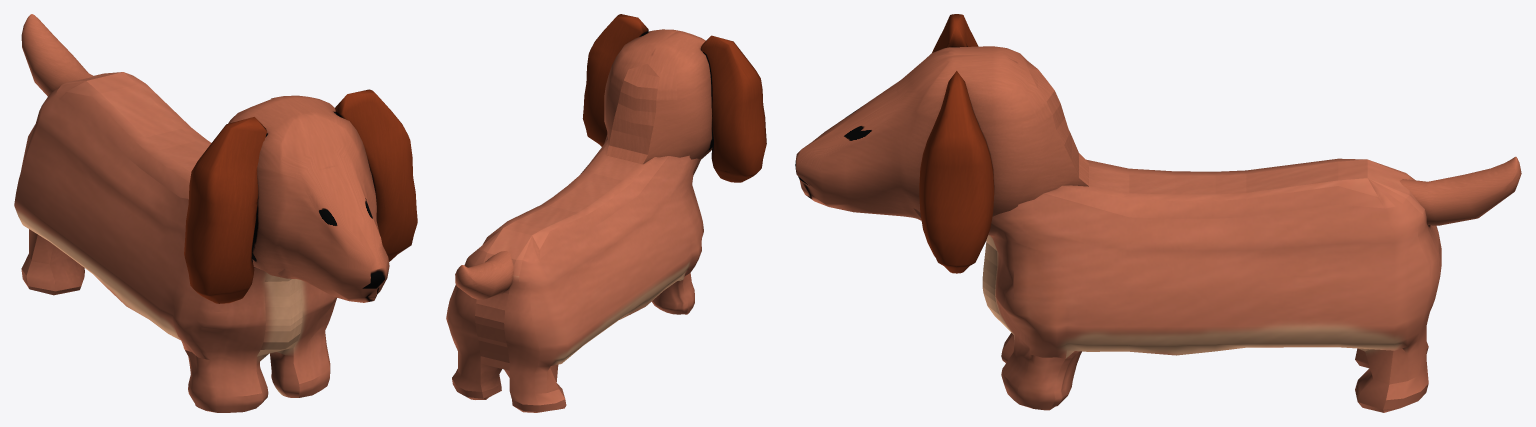
File: dutchunModel.fbx
3 views of the same model, side by side, from view 1: azimuth 30°, elevation 25°; view 2: azimuth 150°, elevation 25°; view 3: azimuth 270°, elevation 25° (orthographic). The views are drawn at different scales.
Visible parts, largest first — view 1: body, head, earRight, earLeft, tail; view 2: body, head, earRight, earLeft, tail; view 3: body, head, earLeft, tail, earRight.
Boxes of the visible parts, box(x1,y1,x2,y2) form: body: box(14, 72, 336, 412); head: box(228, 95, 389, 302); earRight: box(184, 117, 266, 303); earLeft: box(335, 89, 417, 261); tail: box(21, 14, 93, 96); body: box(446, 134, 703, 412); head: box(604, 29, 713, 164); earRight: box(701, 35, 766, 182); earLeft: box(582, 14, 648, 146); tail: box(455, 251, 513, 299); body: box(913, 158, 1441, 412); head: box(795, 46, 1089, 220); earLeft: box(919, 71, 994, 273); tail: box(1399, 156, 1521, 225); earRight: box(932, 14, 978, 52).
Size of the model in its own units: 4.48 by 6.23 by 12.34.
Materials: 5 (5 with a texture image).
